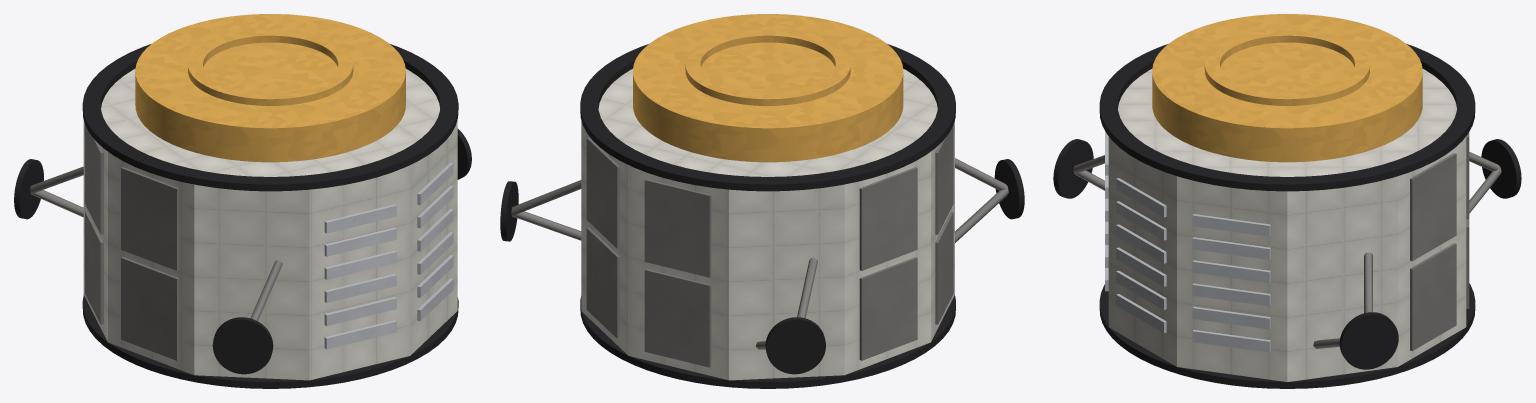
The model's file is cmd02_deep_space_bus.glb.
The picture shows the model from 3 angles, left to right: view 1: azimuth 30°, elevation 25°; view 2: azimuth 150°, elevation 25°; view 3: azimuth 270°, elevation 25°; orthographic projection.
Visible parts, largest first — view 1: bus_structure, upper_equipment_module, stack_rings, slot_bay_doors, thermal_louvers, rtg_mount_pads, rtg_brackets; view 2: bus_structure, upper_equipment_module, slot_bay_doors, stack_rings, rtg_mount_pads, rtg_brackets; view 3: bus_structure, upper_equipment_module, stack_rings, thermal_louvers, slot_bay_doors, rtg_mount_pads, rtg_brackets.
Part boxes in pixels (x1,y1,x2,y2): bus_structure: (83, 68, 457, 380); upper_equipment_module: (135, 14, 405, 162); stack_rings: (82, 44, 458, 388); slot_bay_doors: (85, 124, 178, 360); thermal_louvers: (324, 162, 453, 349); rtg_mount_pads: (14, 128, 471, 374); rtg_brackets: (30, 166, 282, 321); bus_structure: (581, 69, 954, 380); upper_equipment_module: (633, 14, 903, 162); slot_bay_doors: (586, 125, 953, 367); stack_rings: (580, 44, 955, 388); rtg_mount_pads: (500, 159, 1024, 374); rtg_brackets: (511, 158, 1008, 349); bus_structure: (1108, 69, 1466, 381); upper_equipment_module: (1152, 14, 1422, 162); stack_rings: (1099, 44, 1475, 388); thermal_louvers: (1105, 131, 1270, 352); slot_bay_doors: (1410, 132, 1469, 350); rtg_mount_pads: (1053, 139, 1521, 369); rtg_brackets: (1073, 152, 1501, 348).
Bounding box in the file's own units: 3 × 1.8 × 3.11.
Materials: 5 (4 with a texture image).
